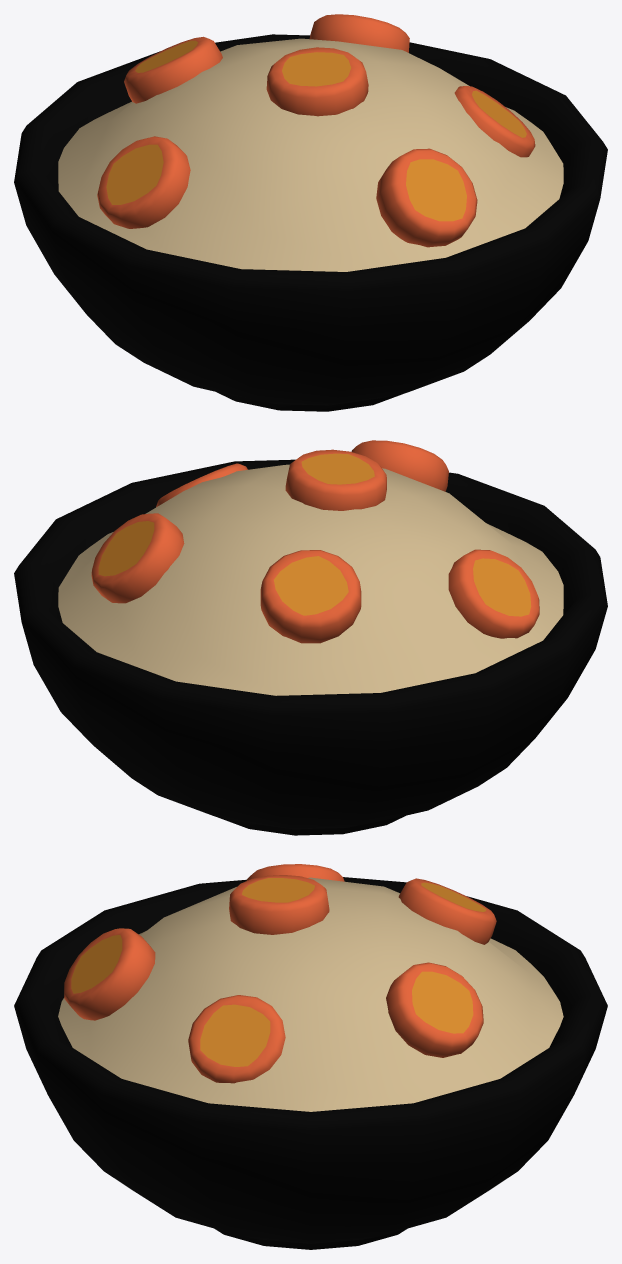
File: ASFTR_Bowl_RiceCarrot.fbx
3 renders of one model, top to bottom at view 1: azimuth 30°, elevation 25°; view 2: azimuth 150°, elevation 25°; view 3: azimuth 270°, elevation 25°, orthographic.
Visible parts, largest first — view 1: ASFTR_Bowl_RiceCarrot; view 2: ASFTR_Bowl_RiceCarrot; view 3: ASFTR_Bowl_RiceCarrot.
Part boxes in pixels (<box>): ASFTR_Bowl_RiceCarrot: <box>14,14,607,411</box>; ASFTR_Bowl_RiceCarrot: <box>14,440,607,835</box>; ASFTR_Bowl_RiceCarrot: <box>14,864,607,1249</box>.
Bounding box in the file's own units: 60.78 × 34.55 × 60.78.
